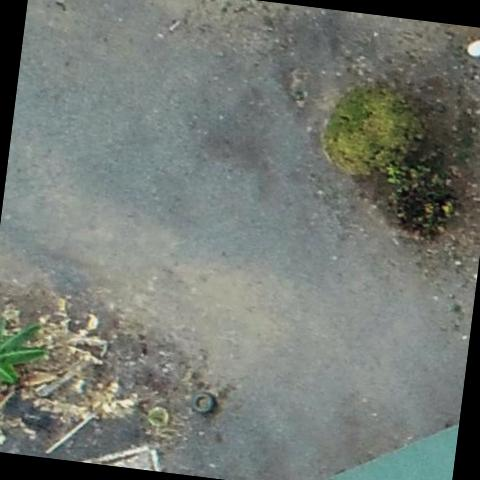Banana-plant: (0, 311, 52, 396)
